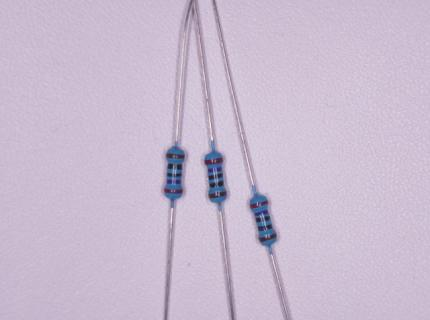Black band: (257, 224, 273, 231), (256, 216, 271, 223), (208, 173, 223, 180), (210, 180, 224, 187), (167, 164, 182, 170), (166, 172, 182, 177)
Brown band: (259, 233, 277, 242), (209, 192, 227, 198), (166, 153, 185, 158)
Red band: (250, 201, 268, 209), (205, 158, 223, 165), (164, 189, 182, 194)
Violet band: (254, 210, 268, 216), (208, 167, 222, 172), (167, 180, 181, 184)
